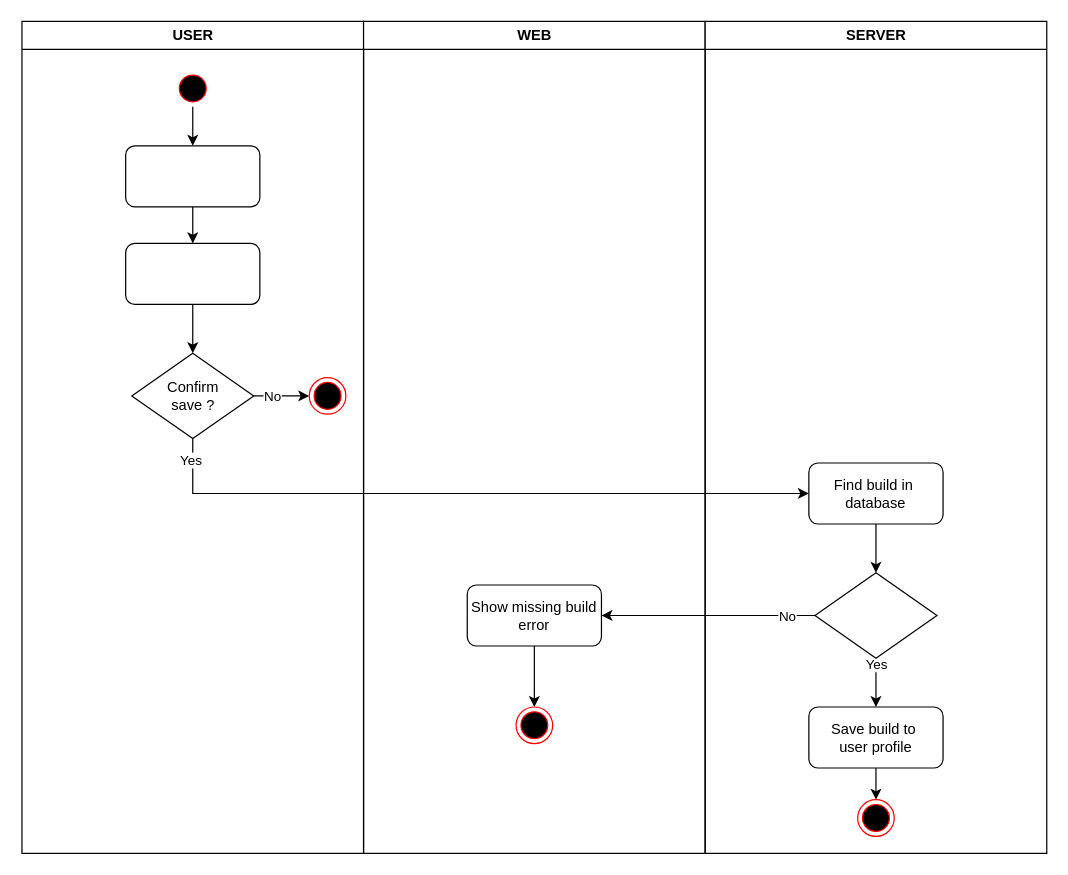
This 1068x875 diagram has some shape labels left out. The shapes that lost their labels are listed below. From the top down, each one's centre as x and y in pixels, then its label:
At (192,176): "Select build to save".
At (192,273): "Press save button".
At (875,615): "Build exists?".
